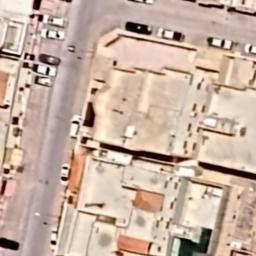SUV: (211, 38, 232, 50), (38, 66, 56, 76), (245, 44, 256, 54)
sedan: (126, 22, 152, 35), (38, 54, 60, 66), (0, 237, 19, 250), (60, 164, 70, 186), (35, 76, 53, 86), (50, 232, 57, 250)
truck: (42, 14, 66, 27), (70, 115, 82, 139), (40, 29, 64, 40), (162, 30, 183, 40), (128, 0, 154, 4)
